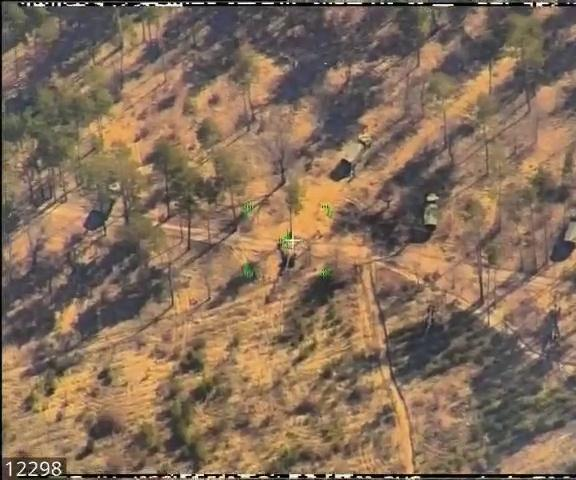truck: (340, 133, 372, 172), (422, 192, 440, 230), (560, 210, 576, 250)
